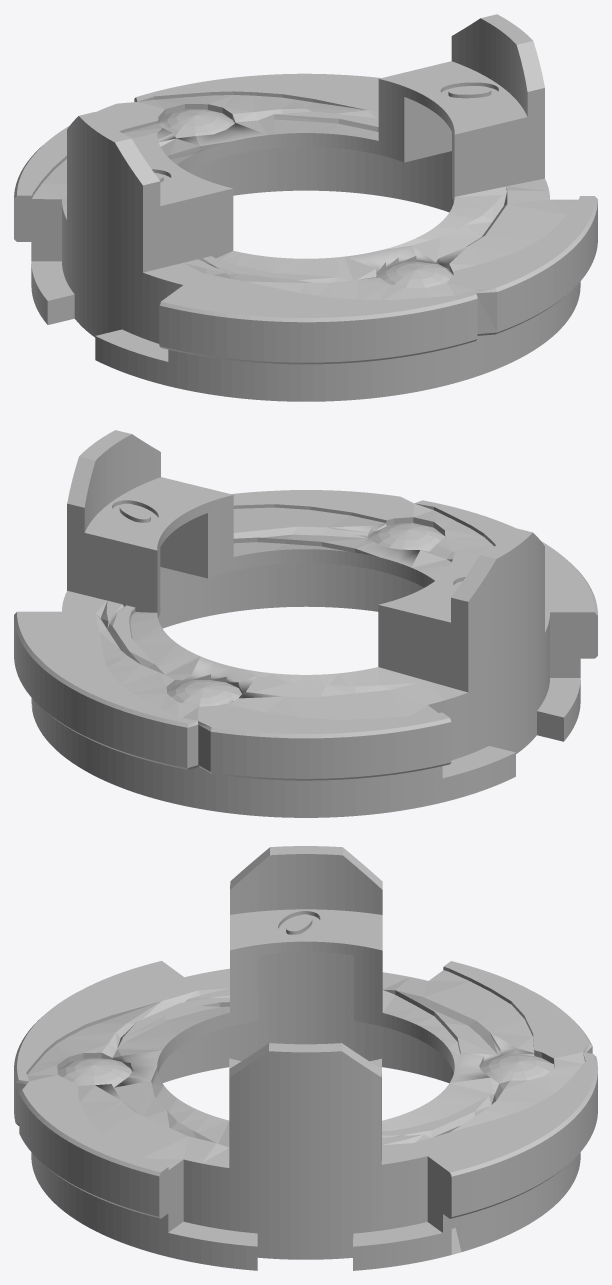
The picture shows the model from 3 angles, top to bottom: view 1: azimuth 30°, elevation 25°; view 2: azimuth 150°, elevation 25°; view 3: azimuth 270°, elevation 25°; orthographic projection.
Visible parts, largest first — view 1: test_disk; view 2: test_disk; view 3: test_disk.
Part boxes in pixels (left/top/right/bottom): test_disk: left=14, top=14, right=597, bottom=401; test_disk: left=14, top=430, right=597, bottom=817; test_disk: left=14, top=846, right=597, bottom=1270.
Size of the model in its own units: 0.3547 by 0.15 by 0.3827.
1 material, 1 textured.
